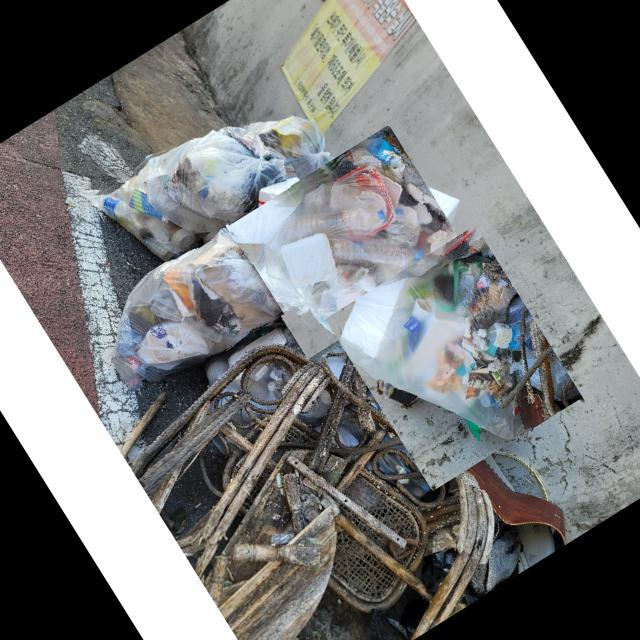other_trashbag: (261, 134, 470, 337), (341, 255, 515, 439), (86, 128, 290, 263), (114, 229, 280, 385)
